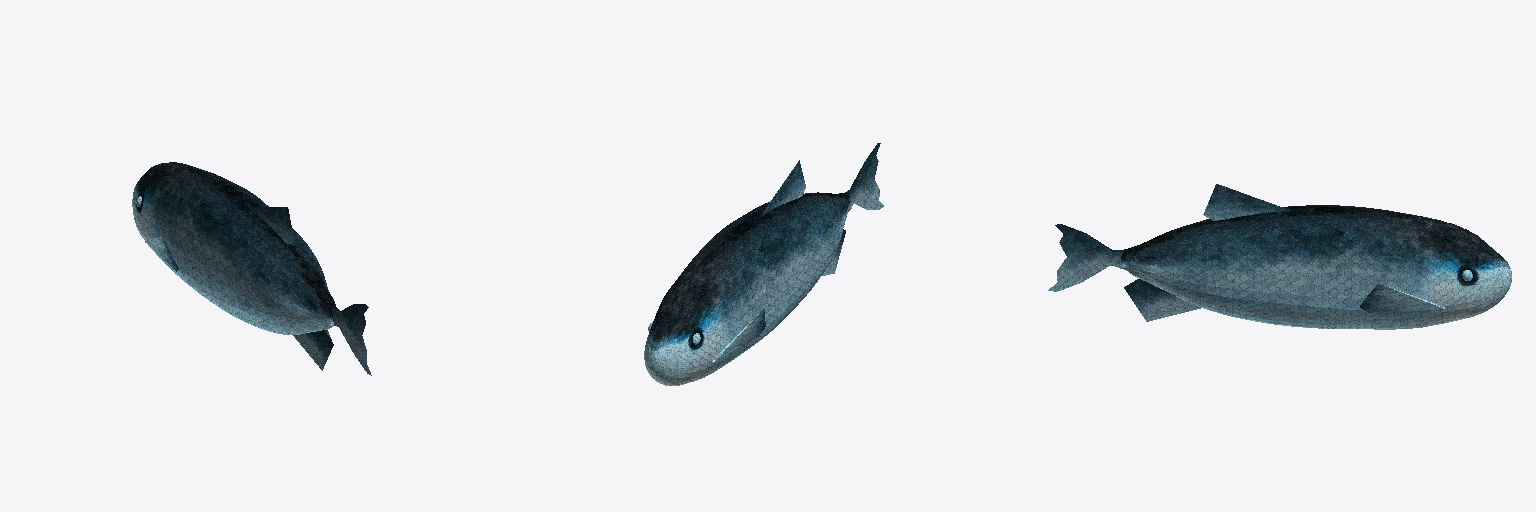
The picture shows the model from 3 angles: view 1: azimuth 30°, elevation 25°; view 2: azimuth 150°, elevation 25°; view 3: azimuth 270°, elevation 25°; orthographic projection.
Parts seen in each view (by area): view 1: Body_Sphere.001, Tail_Plane.001, Back_Fin_Plane.002, Top_Fin_Plane.003; view 2: Body_Sphere.001, Tail_Plane.001, Top_Fin_Plane.003, Side_Fin_Plane.004; view 3: Body_Sphere.001, Tail_Plane.001, Back_Fin_Plane.002, Top_Fin_Plane.003, Side_Fin_Plane.004.
Part boxes in pixels (x1,y1,x2,y2): Body_Sphere.001: (132,162,336,334); Tail_Plane.001: (332,304,371,375); Back_Fin_Plane.002: (293,330,333,370); Top_Fin_Plane.003: (250,207,294,244); Body_Sphere.001: (644,192,851,385); Tail_Plane.001: (845,143,883,209); Top_Fin_Plane.003: (763,160,805,213); Side_Fin_Plane.004: (712,308,765,362); Body_Sphere.001: (1119,205,1511,329); Tail_Plane.001: (1048,224,1123,291); Back_Fin_Plane.002: (1124,279,1200,321); Top_Fin_Plane.003: (1203,184,1288,220); Side_Fin_Plane.004: (1360,283,1444,312).
Bounding box in the file's own units: 0.6949 × 1.06 × 3.07.
Materials: 1 (1 with a texture image).